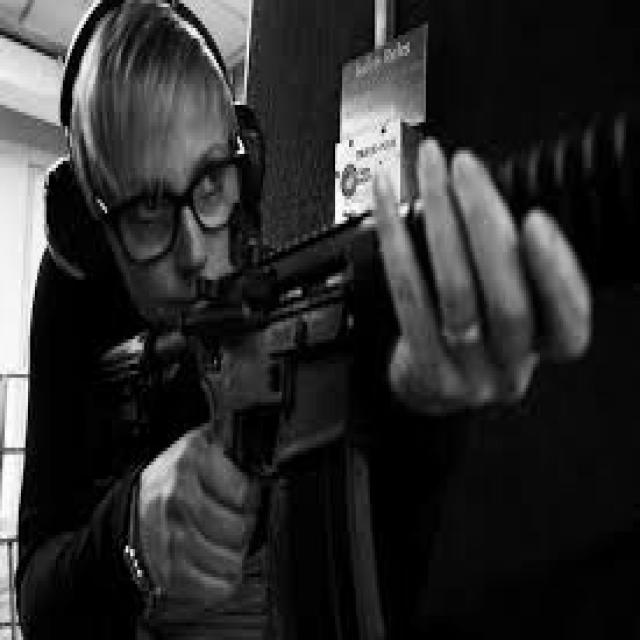rifle: (64, 83, 640, 637)
